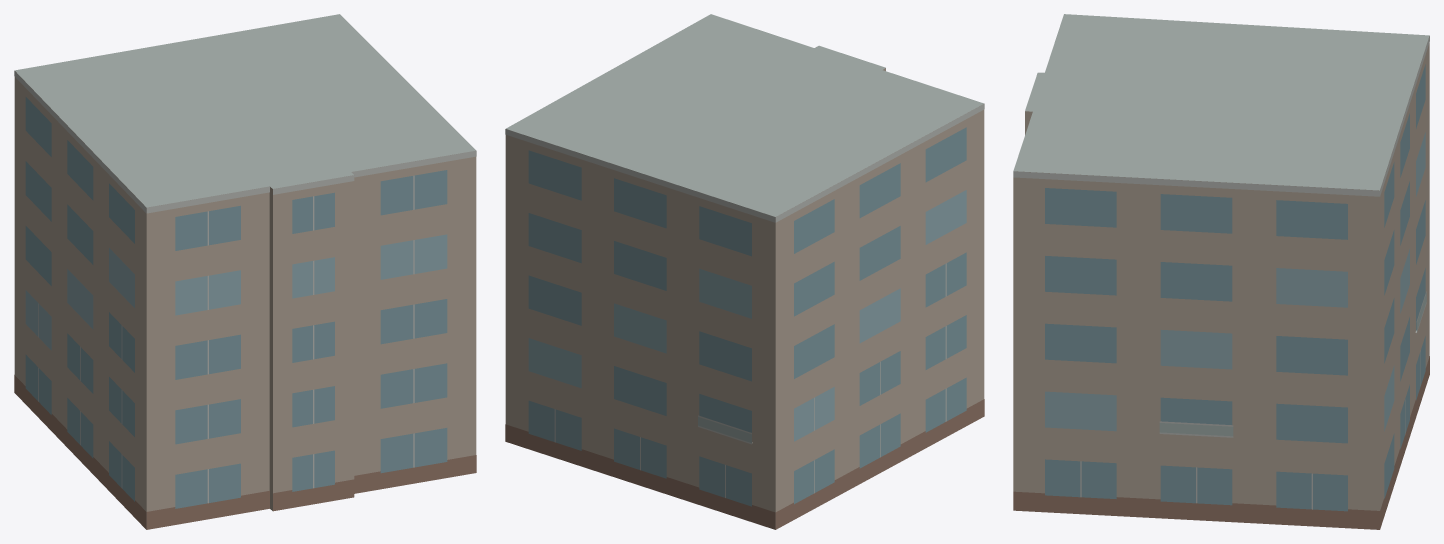
The model's file is survey-upis-33006934.glb.
3 renders of one model, left to right at view 1: azimuth 30°, elevation 25°; view 2: azimuth 150°, elevation 25°; view 3: azimuth 270°, elevation 25°, orthographic. The views are drawn at different scales.
Visible parts, largest first — view 1: survey-upis-33006934.tmp; view 2: survey-upis-33006934.tmp; view 3: survey-upis-33006934.tmp.
Boxes of the visible parts, x1=… form: survey-upis-33006934.tmp: x1=14, y1=14, x2=476, y2=529; survey-upis-33006934.tmp: x1=505, y1=14, x2=984, y2=529; survey-upis-33006934.tmp: x1=1013, y1=14, x2=1429, y2=529.
Bounding box in the file's own units: 14.73 × 13.2 × 14.69.
